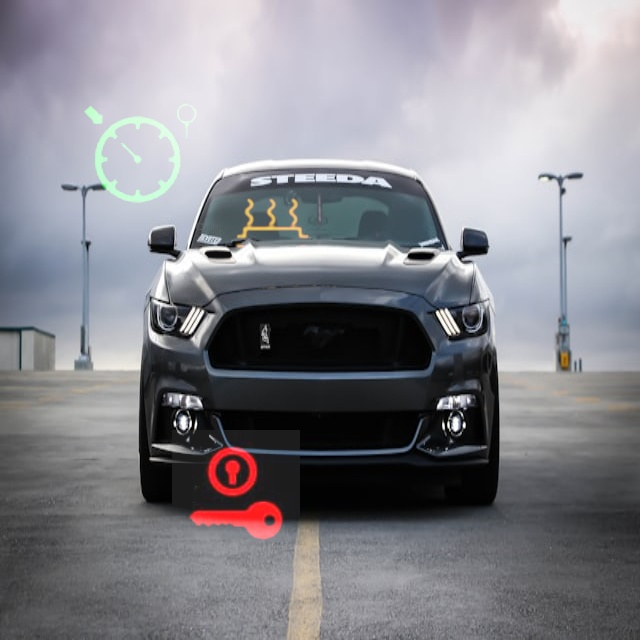symbol: (56, 70, 225, 239), (203, 158, 343, 298), (172, 430, 300, 558)
